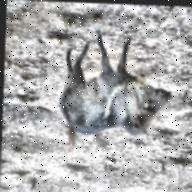boar: (54, 36, 183, 158)
